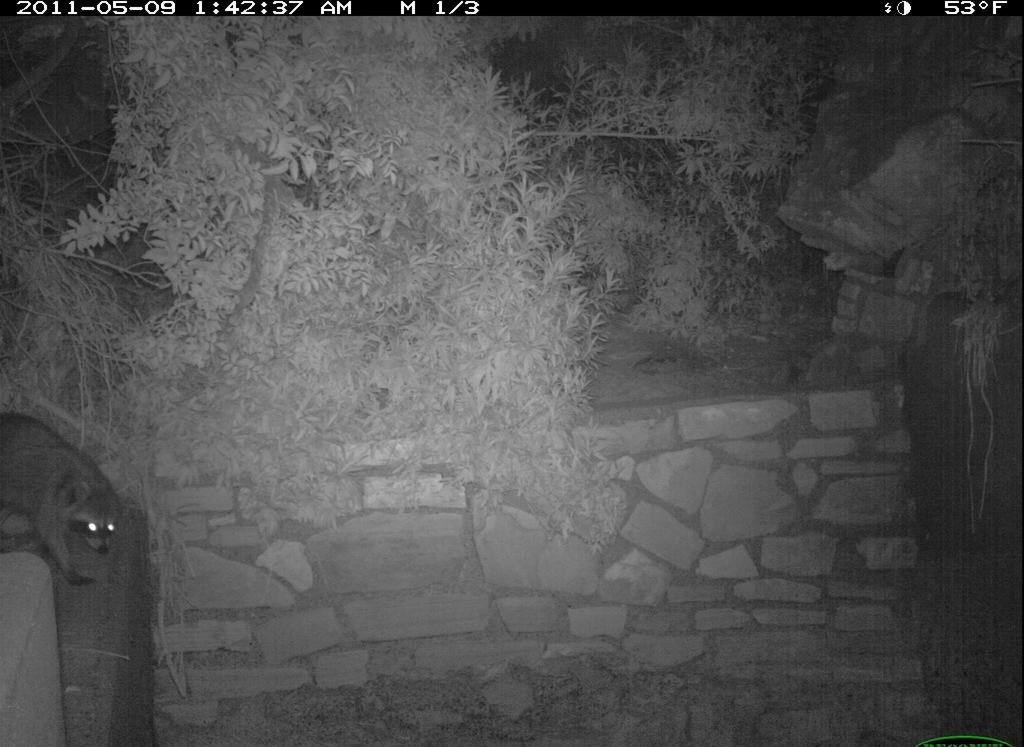raccoon: (3, 408, 140, 588)
